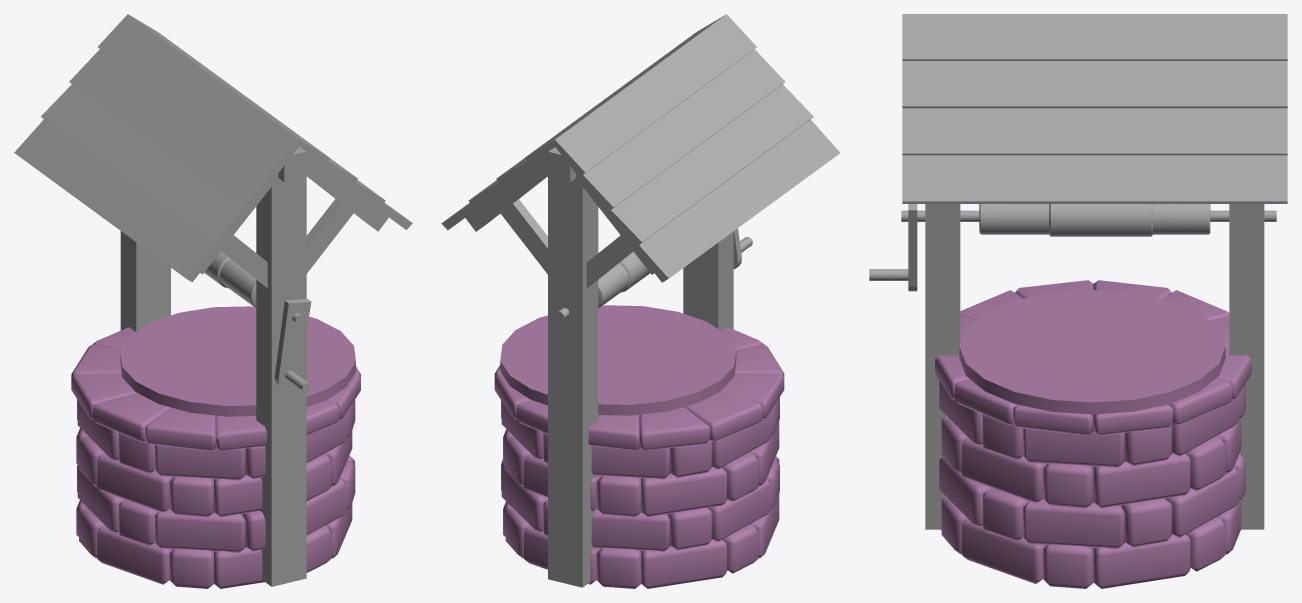
Rendered from well.fbx.
The picture shows the model from 3 angles, left to right: view 1: azimuth 30°, elevation 25°; view 2: azimuth 150°, elevation 25°; view 3: azimuth 270°, elevation 25°; orthographic projection. The views are drawn at different scales.
Visible parts, largest first — view 1: pCube39, pCube2, pCube1 (×2), pCylinder5, pCube5, pCube3, pCube6, pCylinder4, pCube4; view 2: pCube39, pCube2, pCube1 (×2), pCylinder5, pCube5, pCube3, pCylinder4, pCube4; view 3: pCube2, pCube39, pCylinder5, pCube1 (×2), pCylinder4, pCube6, pCylinder2.
Part boxes in pixels (x1=…): pCube39: x1=71, y1=327, x2=360, y2=588; pCube2: x1=14, y1=14, x2=412, y2=282; pCube1 (×2): x1=120, y1=177, x2=306, y2=586; pCylinder5: x1=120, y1=306, x2=355, y2=416; pCube5: x1=221, y1=199, x2=353, y2=287; pCube3: x1=200, y1=154, x2=388, y2=274; pCube6: x1=274, y1=298, x2=311, y2=388; pCylinder4: x1=204, y1=251, x2=256, y2=307; pCube4: x1=278, y1=147, x2=308, y2=182; pCube39: x1=494, y1=326, x2=784, y2=588; pCube2: x1=441, y1=14, x2=840, y2=282; pCube1 (×2): x1=548, y1=177, x2=733, y2=587; pCylinder5: x1=500, y1=305, x2=736, y2=415; pCube5: x1=500, y1=199, x2=633, y2=287; pCube3: x1=465, y1=154, x2=653, y2=274; pCylinder4: x1=598, y1=251, x2=649, y2=308; pCube4: x1=546, y1=147, x2=575, y2=182; pCube2: x1=902, y1=14, x2=1287, y2=203; pCube39: x1=935, y1=280, x2=1251, y2=588; pCylinder5: x1=959, y1=290, x2=1225, y2=414; pCube1 (×2): x1=925, y1=204, x2=1264, y2=529; pCylinder4: x1=979, y1=204, x2=1210, y2=236; pCube6: x1=908, y1=204, x2=917, y2=291; pCylinder2: x1=901, y1=210, x2=1276, y2=221.
Size of the model in its own units: 118 by 205 by 152.
